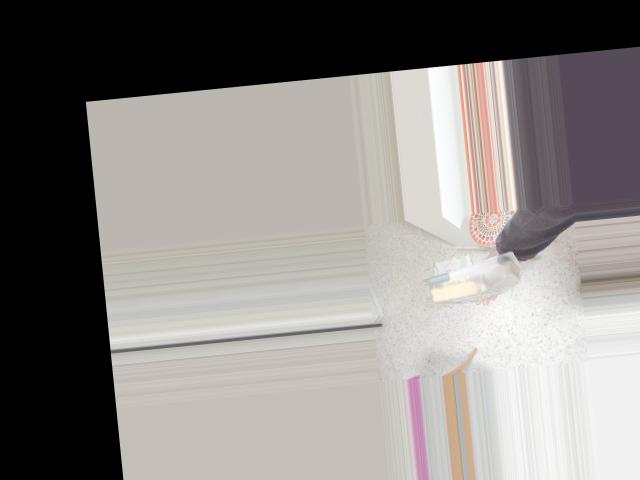cheese: (424, 247, 526, 307)
